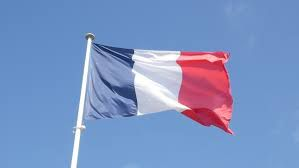French Flag: (86, 41, 235, 133)
